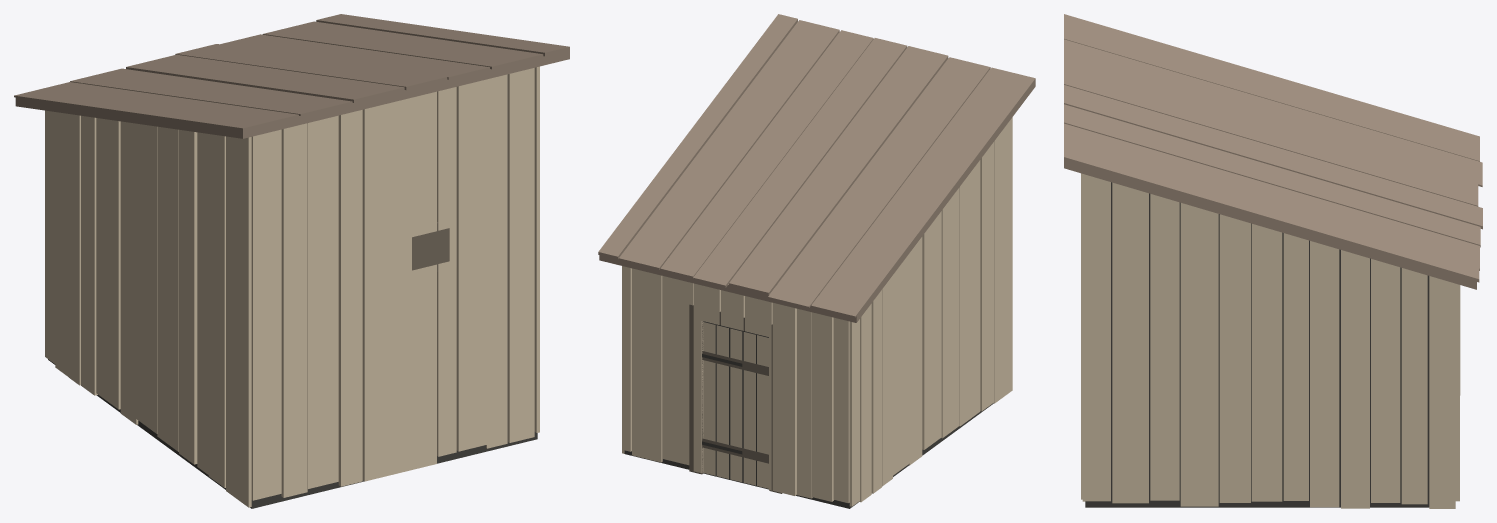
File: recon_1835_blk_washington_clinton_a5_17__inferred_1835.glb
The picture shows the model from 3 angles, left to right: view 1: azimuth 30°, elevation 25°; view 2: azimuth 150°, elevation 25°; view 3: azimuth 270°, elevation 25°; orthographic projection. The views are drawn at different scales.
Parts seen in each view (by area): view 1: recon_1835_blk_washington_clinton_a5_17__inferred_1835; view 2: recon_1835_blk_washington_clinton_a5_17__inferred_1835; view 3: recon_1835_blk_washington_clinton_a5_17__inferred_1835.
Part boxes in pixels (x1,y1,x2,y2): recon_1835_blk_washington_clinton_a5_17__inferred_1835: [14, 14, 569, 508]; recon_1835_blk_washington_clinton_a5_17__inferred_1835: [598, 14, 1035, 508]; recon_1835_blk_washington_clinton_a5_17__inferred_1835: [1064, 14, 1482, 508].
Bounding box in the file's own units: 3.29 × 3.81 × 4.02.
